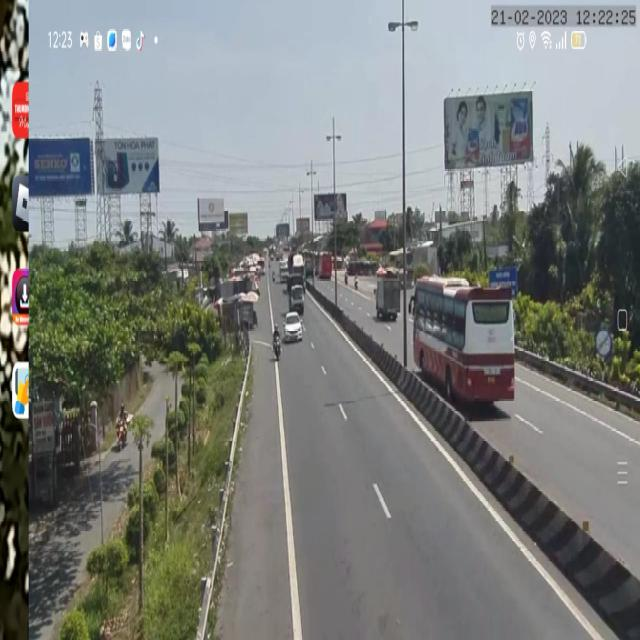bus: (412, 273, 518, 413)
car: (282, 311, 303, 342)
motorbike: (116, 403, 130, 452), (273, 322, 281, 361)
truck: (373, 273, 401, 321), (288, 271, 306, 314)
